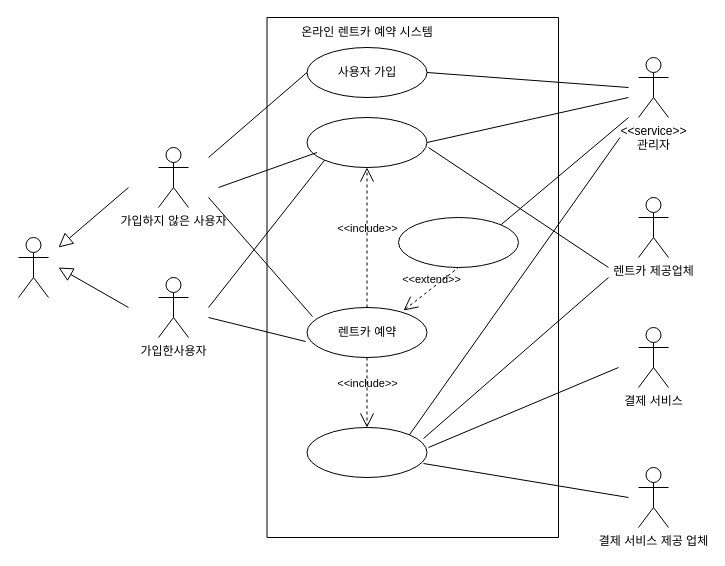
The diagram is 725 pixels wide and 566 high, and some of its shapes have lost their labels. The centre of each missing label's shape, as x and y in pixels:
"렌트카 View" belongs at [366,142].
"비용 결제" belongs at [366,452].
"사용자" belongs at [33,267].
"사용자 정보 입력" belongs at [458,242].
